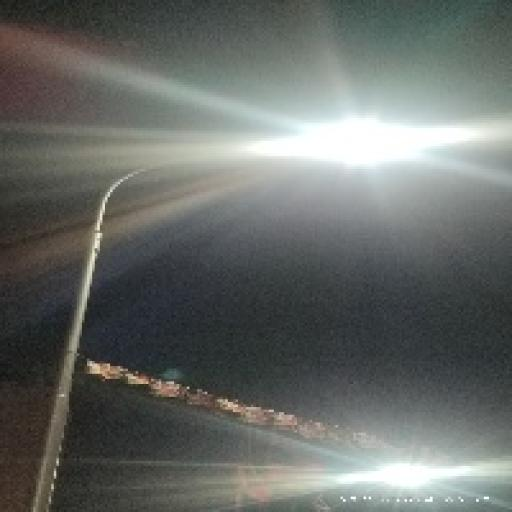Working: (240, 106, 469, 192), (330, 448, 472, 501)
